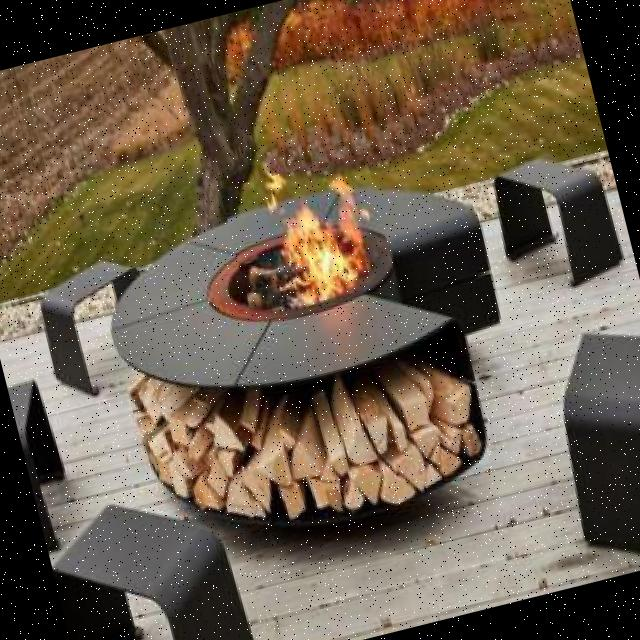fire: (219, 152, 398, 322)
